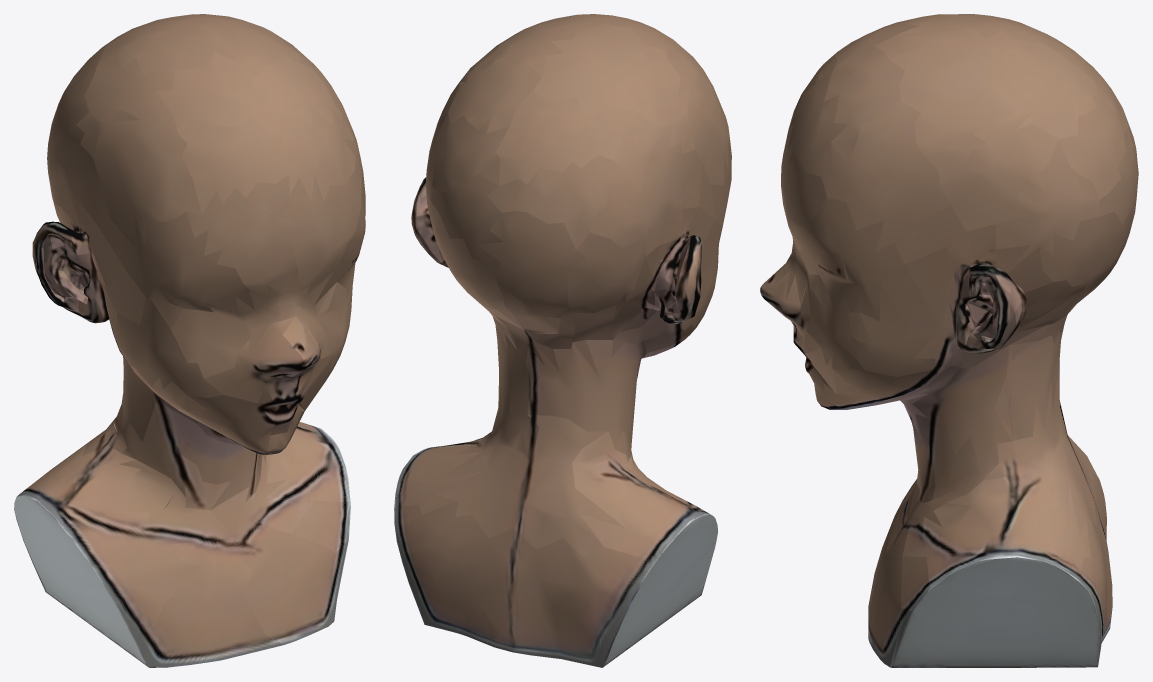
File: nerith_f-tete.glb
3 renders of one model, left to right at view 1: azimuth 30°, elevation 25°; view 2: azimuth 150°, elevation 25°; view 3: azimuth 270°, elevation 25°, orthographic. The views are drawn at different scales.
Visible parts, largest first — view 1: geometry_0; view 2: geometry_0; view 3: geometry_0.
Part boxes in pixels (<box>): geometry_0: <box>14,14,365,667</box>; geometry_0: <box>394,14,731,667</box>; geometry_0: <box>760,14,1138,667</box>.
Size of the model in its own units: 1 by 1.9 by 1.1.
1 material, 1 textured.
